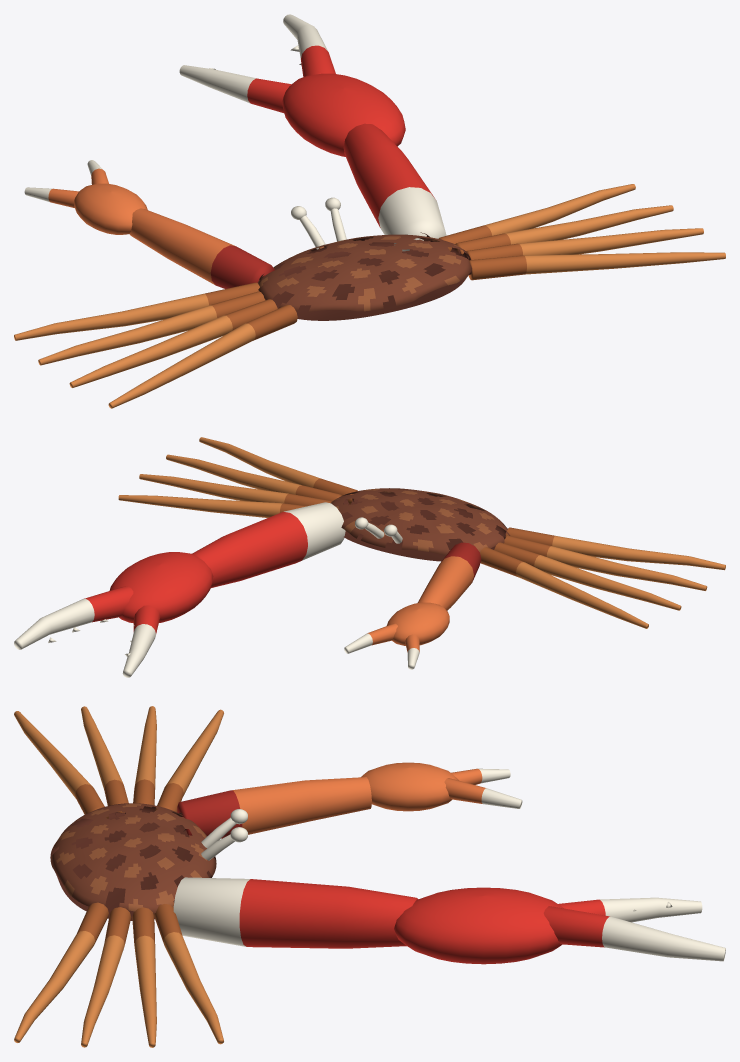
3 renders of one model, top to bottom at view 1: azimuth 30°, elevation 25°; view 2: azimuth 150°, elevation 25°; view 3: azimuth 270°, elevation 25°, orthographic. The views are drawn at different scales.
Parts seen in each view (by area): view 1: walking_leg, dominant_cheliped, carapace, smaller_cheliped, eye_stalk; view 2: walking_leg, dominant_cheliped, carapace, smaller_cheliped, eye_stalk; view 3: dominant_cheliped, walking_leg, carapace, smaller_cheliped, eye_stalk.
Part boxes in pixels (x1=…): walking_leg: x1=14, y1=184, x2=725, y2=408; dominant_cheliped: x1=179, y1=14, x2=446, y2=251; carapace: x1=257, y1=232, x2=471, y2=320; smaller_cheliped: x1=24, y1=160, x2=274, y2=288; eye_stalk: x1=291, y1=197, x2=346, y2=249; walking_leg: x1=118, y1=437, x2=725, y2=628; dominant_cheliped: x1=14, y1=502, x2=345, y2=677; carapace: x1=331, y1=488, x2=510, y2=561; smaller_cheliped: x1=344, y1=542, x2=481, y2=669; eye_stalk: x1=355, y1=517, x2=402, y2=543; dominant_cheliped: x1=173, y1=877, x2=725, y2=964; walking_leg: x1=14, y1=706, x2=223, y2=1047; carapace: x1=50, y1=803, x2=216, y2=920; smaller_cheliped: x1=177, y1=762, x2=522, y2=838; eye_stalk: x1=201, y1=809, x2=247, y2=860.
Size of the model in its own units: 3.96 by 0.4035 by 3.55.
